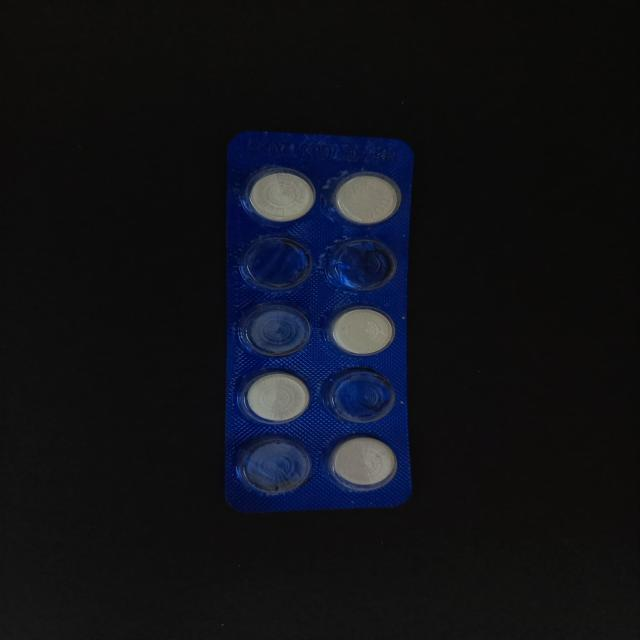defect: (232, 431, 314, 496), (318, 363, 398, 426), (321, 233, 401, 294), (236, 298, 314, 359), (238, 233, 314, 293)
